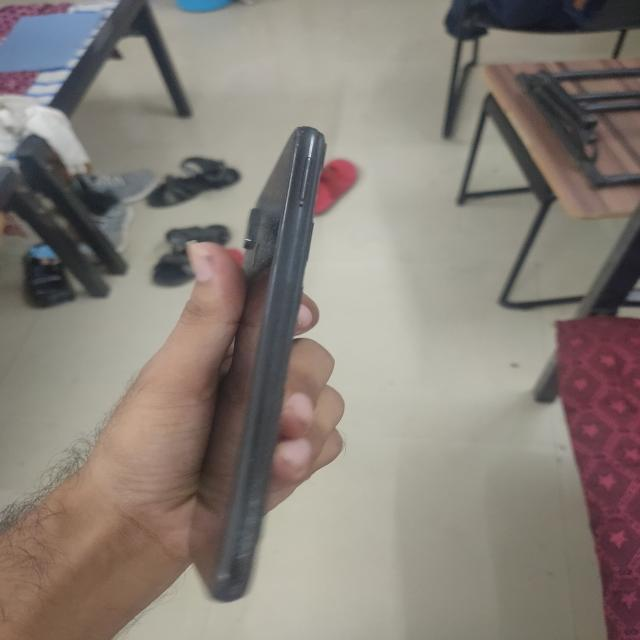Phone: (187, 121, 330, 603)
